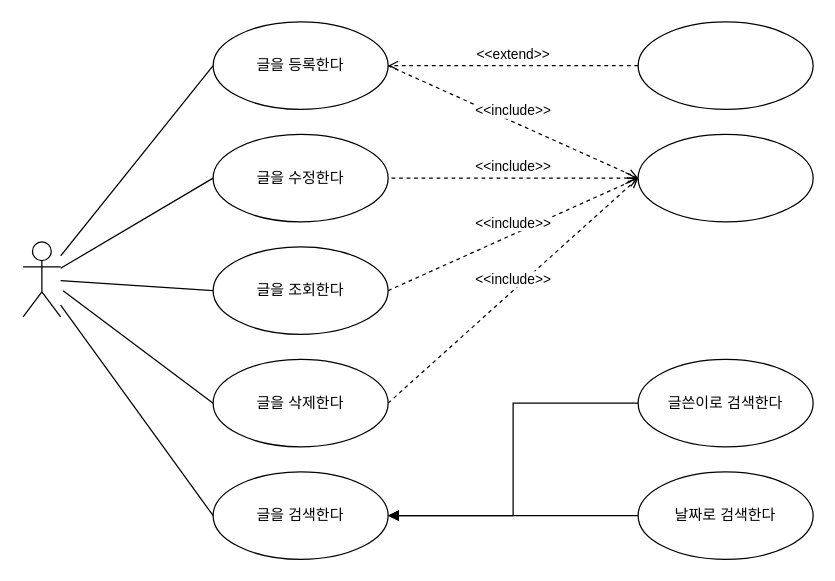
Some shapes in this 835 by 581 pixel diagram are drawn without their labels. The shapes that lost their labels are listed below. From the top down, each one's centre as x and y in pixels, then its label:
point 725,65: 파일을 첨부한다
point 725,177: 로그인 한다
point 41,279: 사용자
